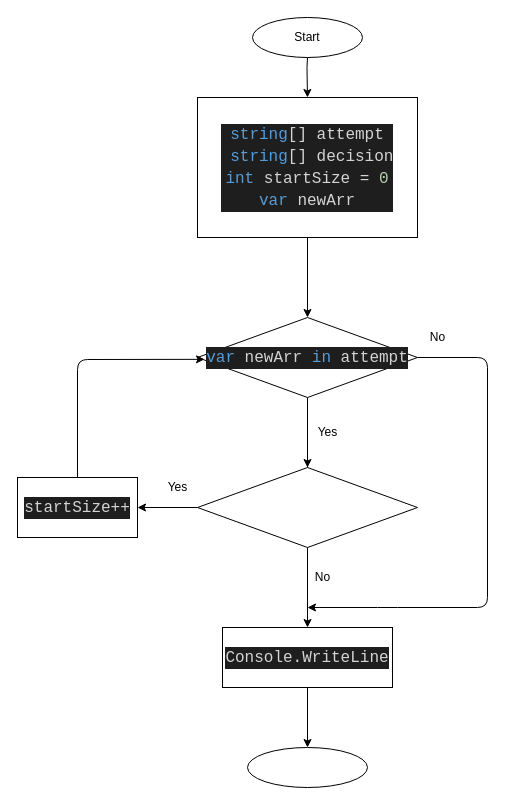
This 513x805 diagram has some shape labels left out. The shapes that lost their labels are listed below. From the top down, each one's centre as x and y in pixels, then its label:
point 307,507: newArr.Length <= 3
point 307,767: Stop
